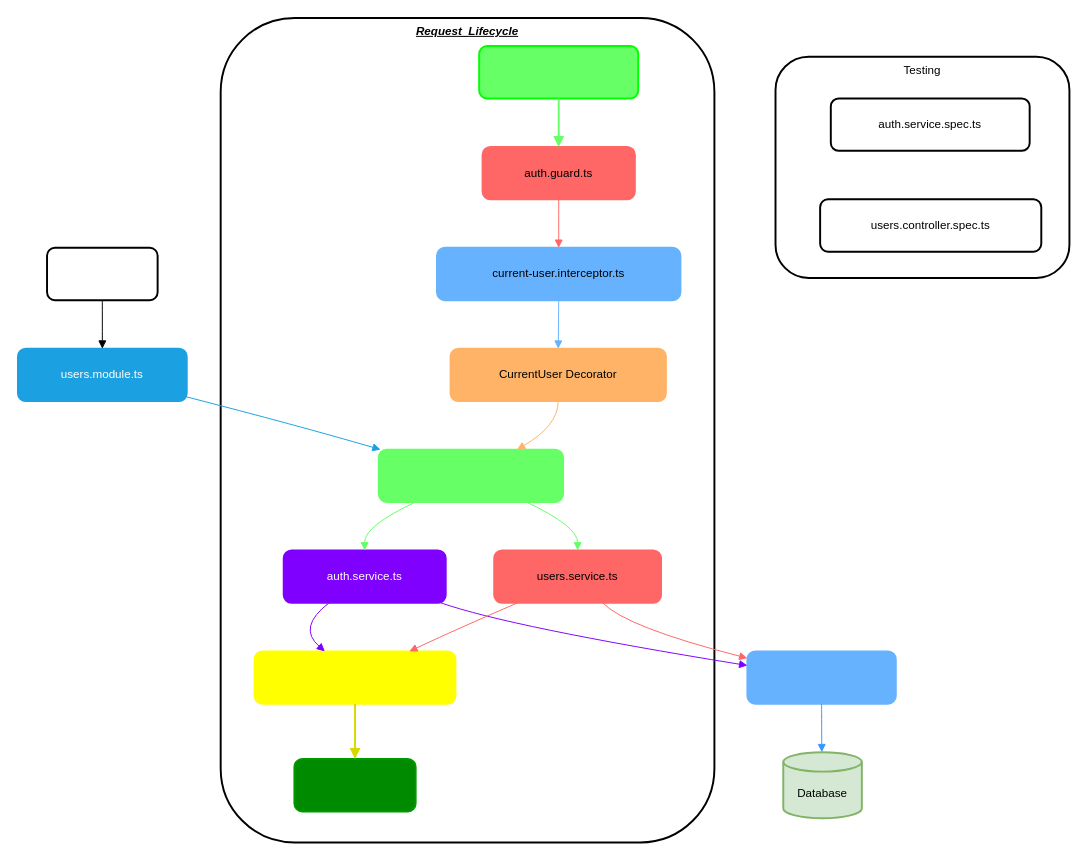
Image size: 1086x859. Some labels were removed from this diagram. The centre of each missing label's shape, as x and y in pixels:
"Client Request" belongs at point (558, 72).
"main.ts" belongs at point (102, 273).
"Response" belongs at point (354, 785).
"Serialize Interceptor" belongs at point (354, 677).
"user.entity.ts" belongs at point (821, 677).
"users.controller.ts" belongs at point (470, 475).
